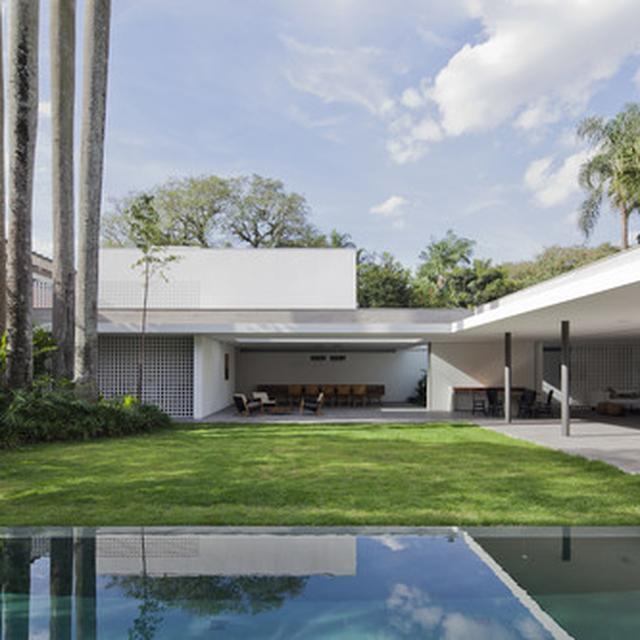building: (94, 245, 640, 439)
